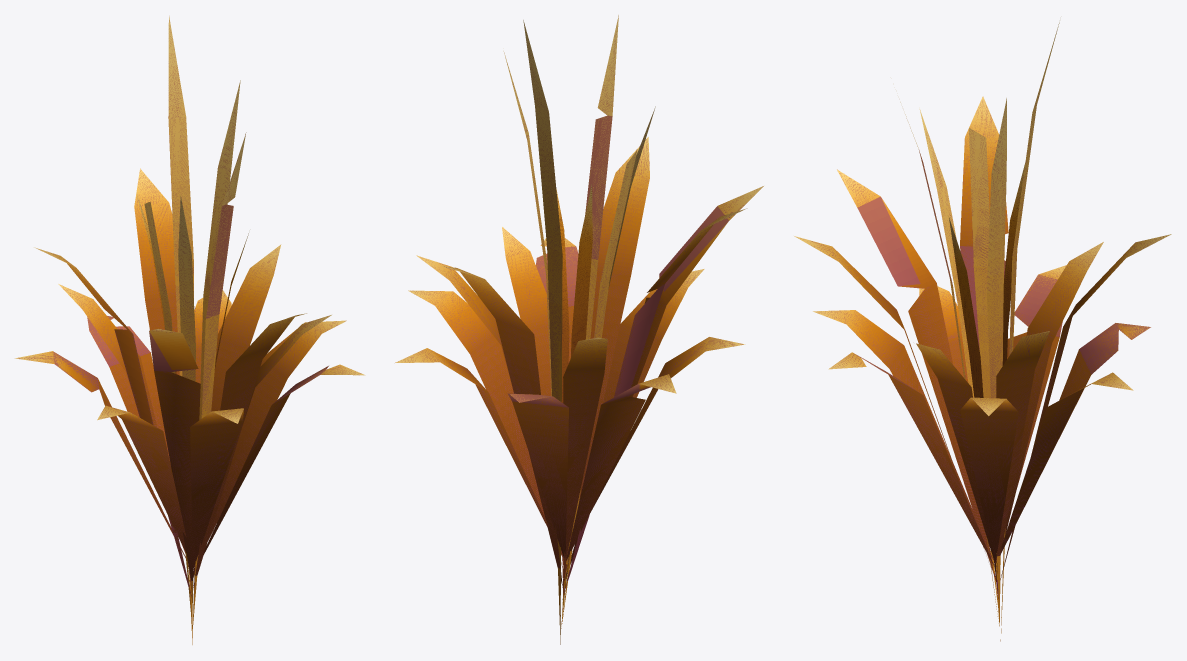
Rendered from Bush_6B.fbx.
3 views of the same model, side by side, from view 1: azimuth 30°, elevation 25°; view 2: azimuth 150°, elevation 25°; view 3: azimuth 270°, elevation 25° (orthographic). The views are drawn at different scales.
Parts seen in each view (by area): view 1: Bush_6B; view 2: Bush_6B; view 3: Bush_6B.
Boxes of the visible parts, x1=… form: Bush_6B: x1=15, y1=16, x2=365, y2=644; Bush_6B: x1=395, y1=15, x2=763, y2=644; Bush_6B: x1=794, y1=22, x2=1171, y2=641.
Bounding box in the file's own units: 1.08 × 1.99 × 1.07.
